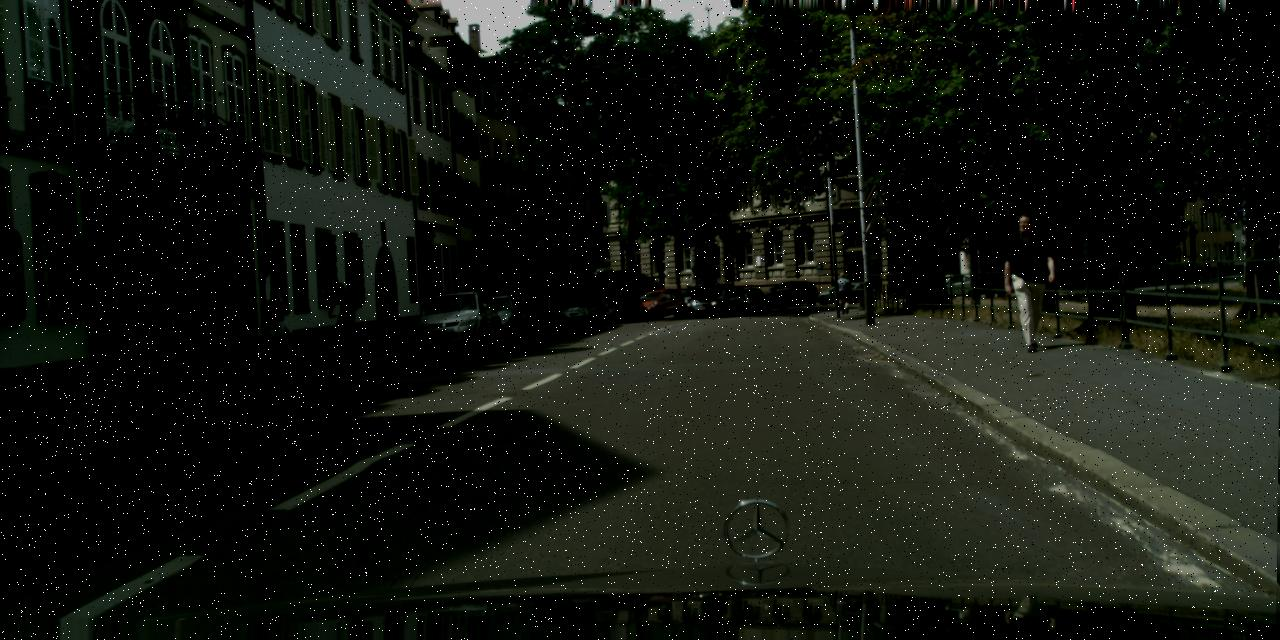ped: (1002, 213, 1058, 350), (264, 288, 292, 359), (330, 282, 358, 347), (834, 272, 850, 312), (838, 273, 853, 309)
